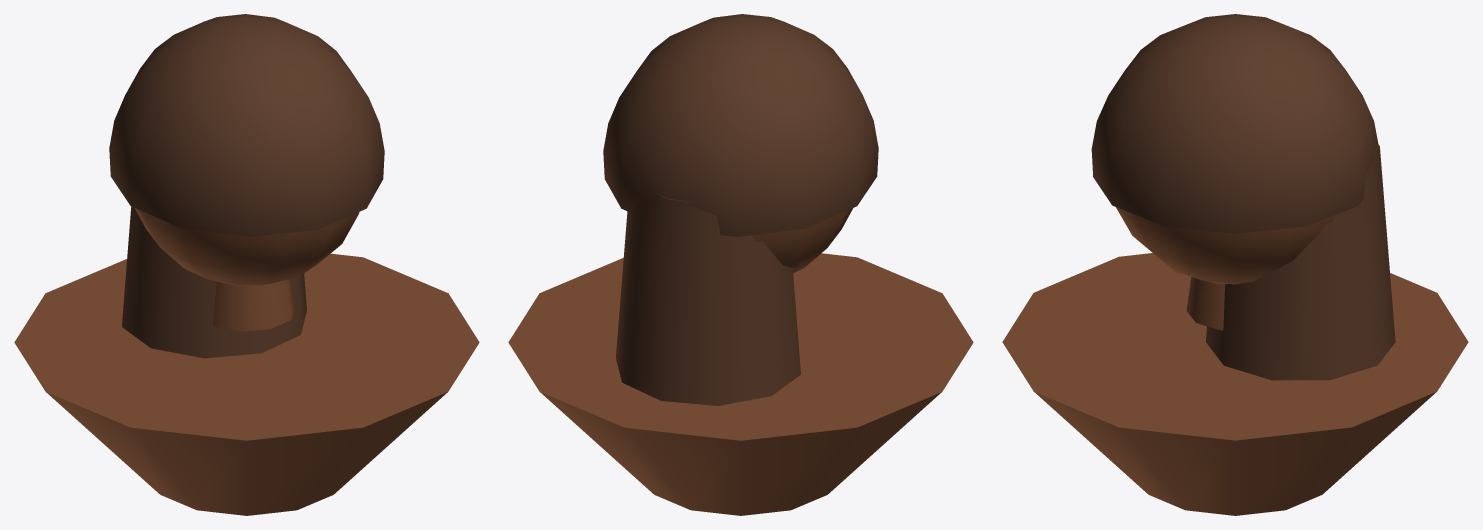
The model's file is raw_002.glb.
3 views of the same model, side by side, from view 1: azimuth 30°, elevation 25°; view 2: azimuth 150°, elevation 25°; view 3: azimuth 270°, elevation 25° (orthographic).
Size of the model in its own units: 2 by 2.12 by 2.
